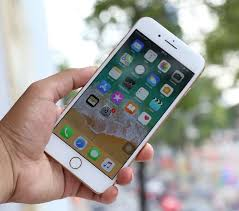iphone: (36, 16, 206, 198)
iphone8: (34, 15, 204, 197)
